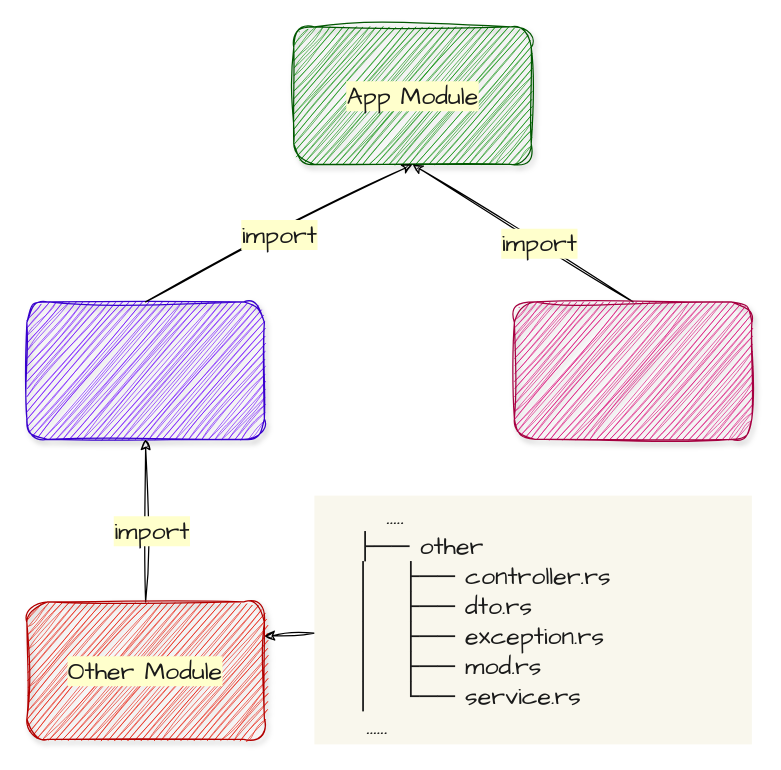
Some shapes in this 781 by 770 pixel diagram are drawn without their labels. The shapes that lost their labels are listed below. From the top down, each one's centre as x and y in pixels, then its label:
At [146,372]: "User Module".
At [633,372]: "Log Module".
